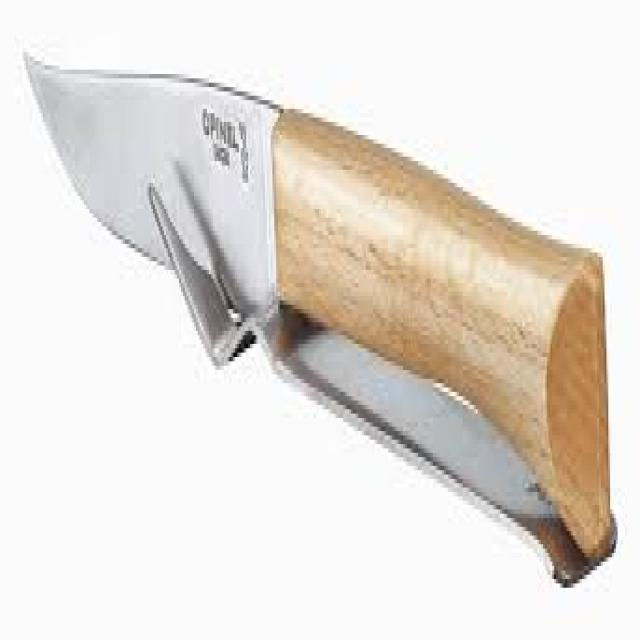knives: (19, 35, 618, 596)
